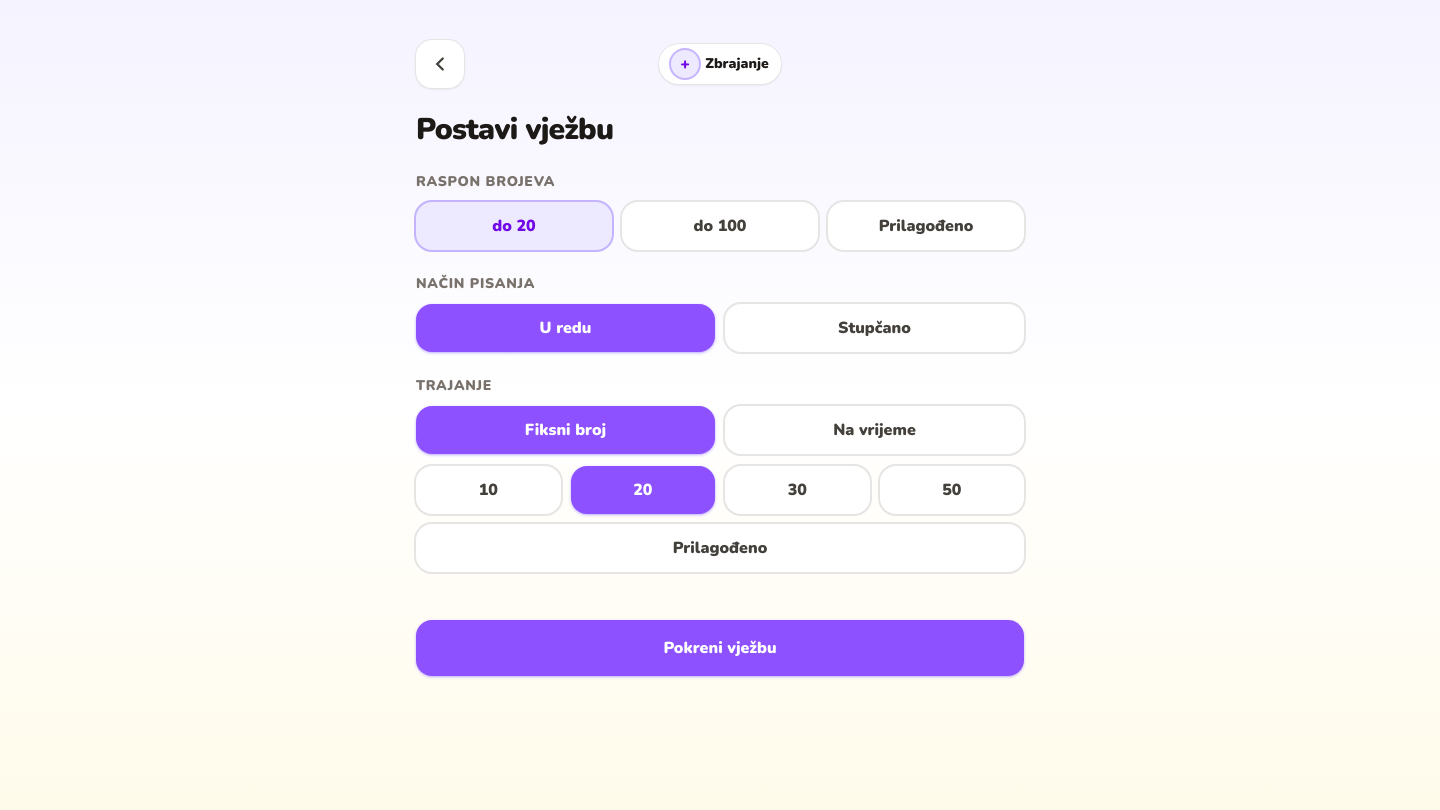
Setup — custom problem count › picking a preset after typing a custom count closes the field
Click the button "Prilagođeno" below "Trajanje". click: (720, 548)
box: [416, 524, 1024, 572]
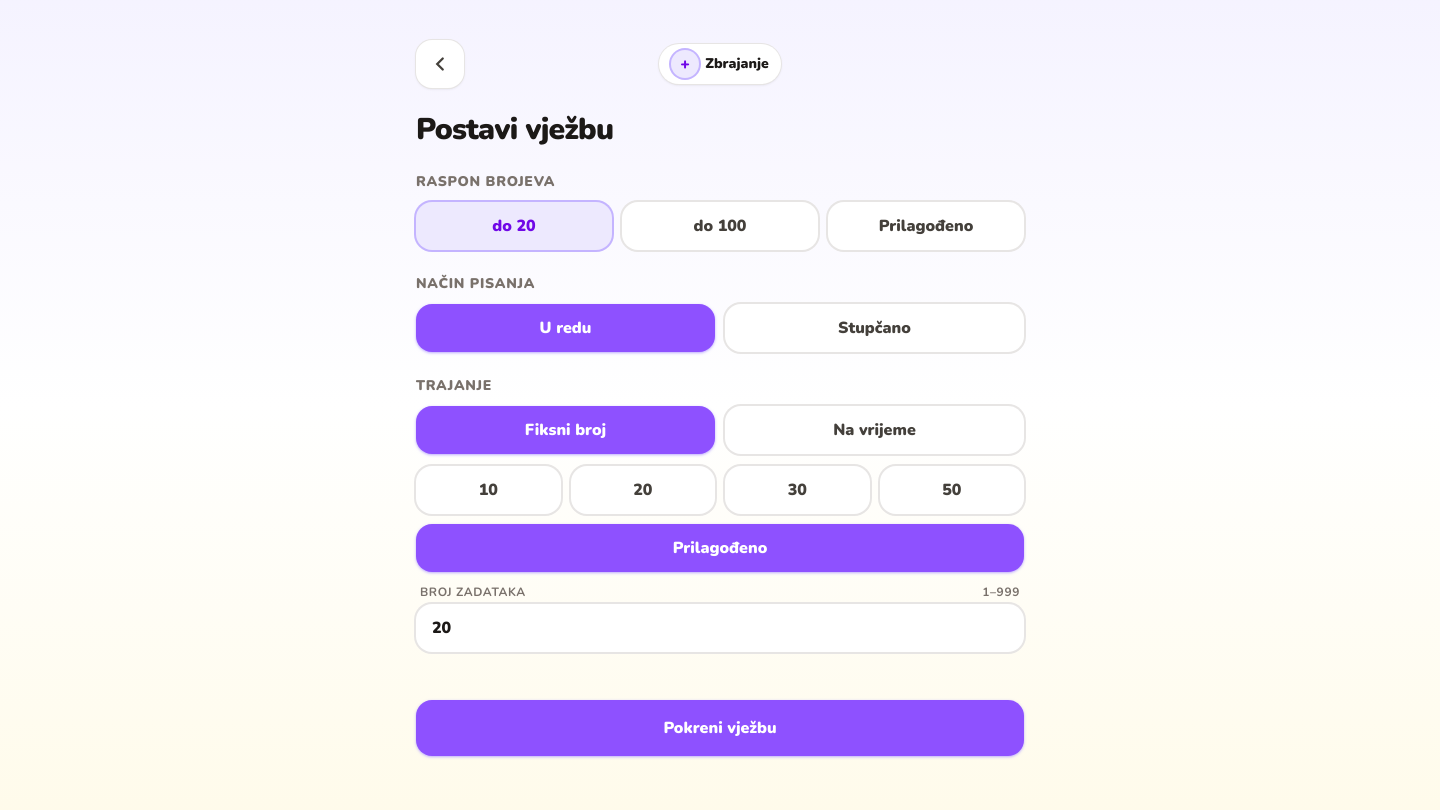
Replace the text in the number field labelled "Broj zadataka" with "100". click: (720, 628)
box: [416, 604, 1024, 652]
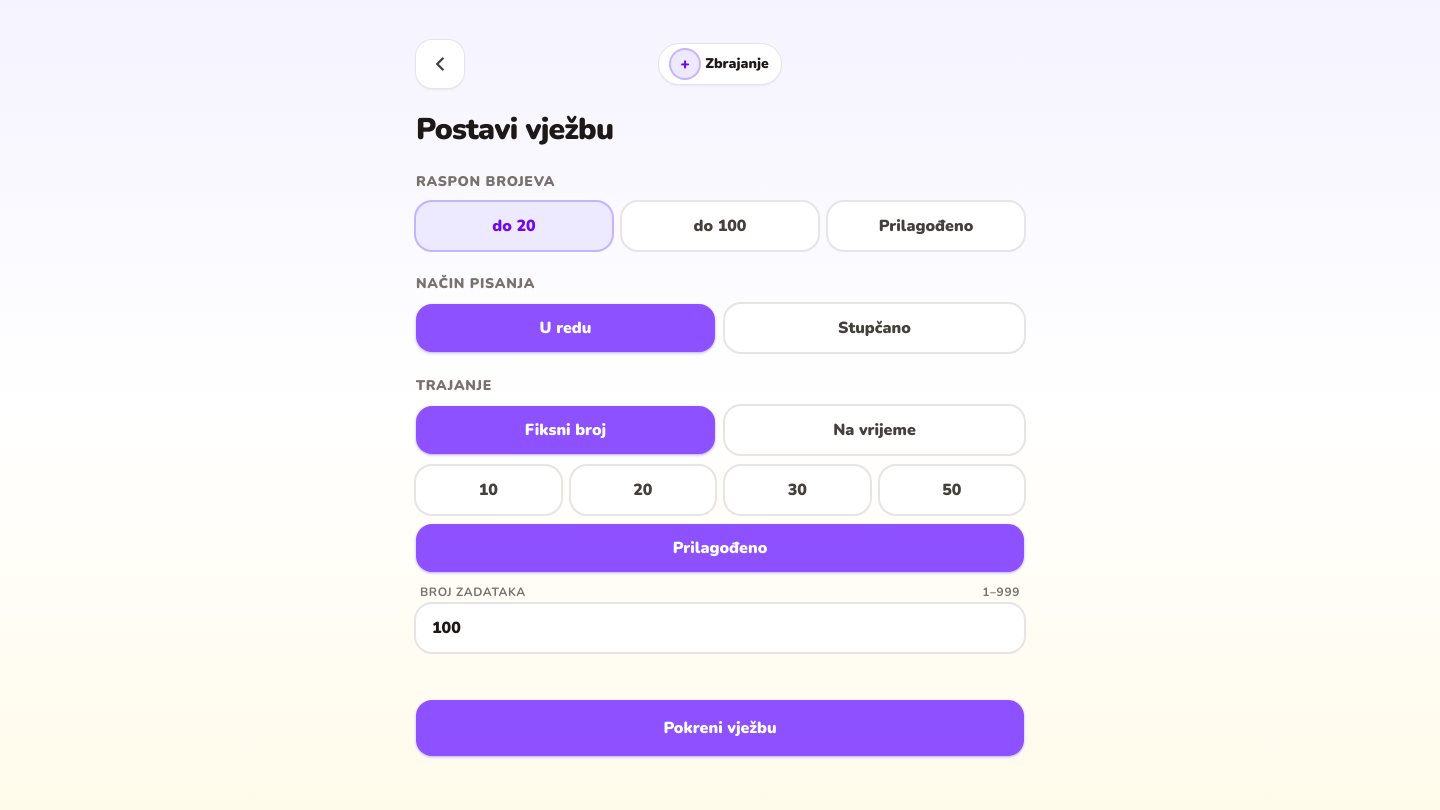
Click the button "50". click: (952, 490)
box: [880, 466, 1024, 514]
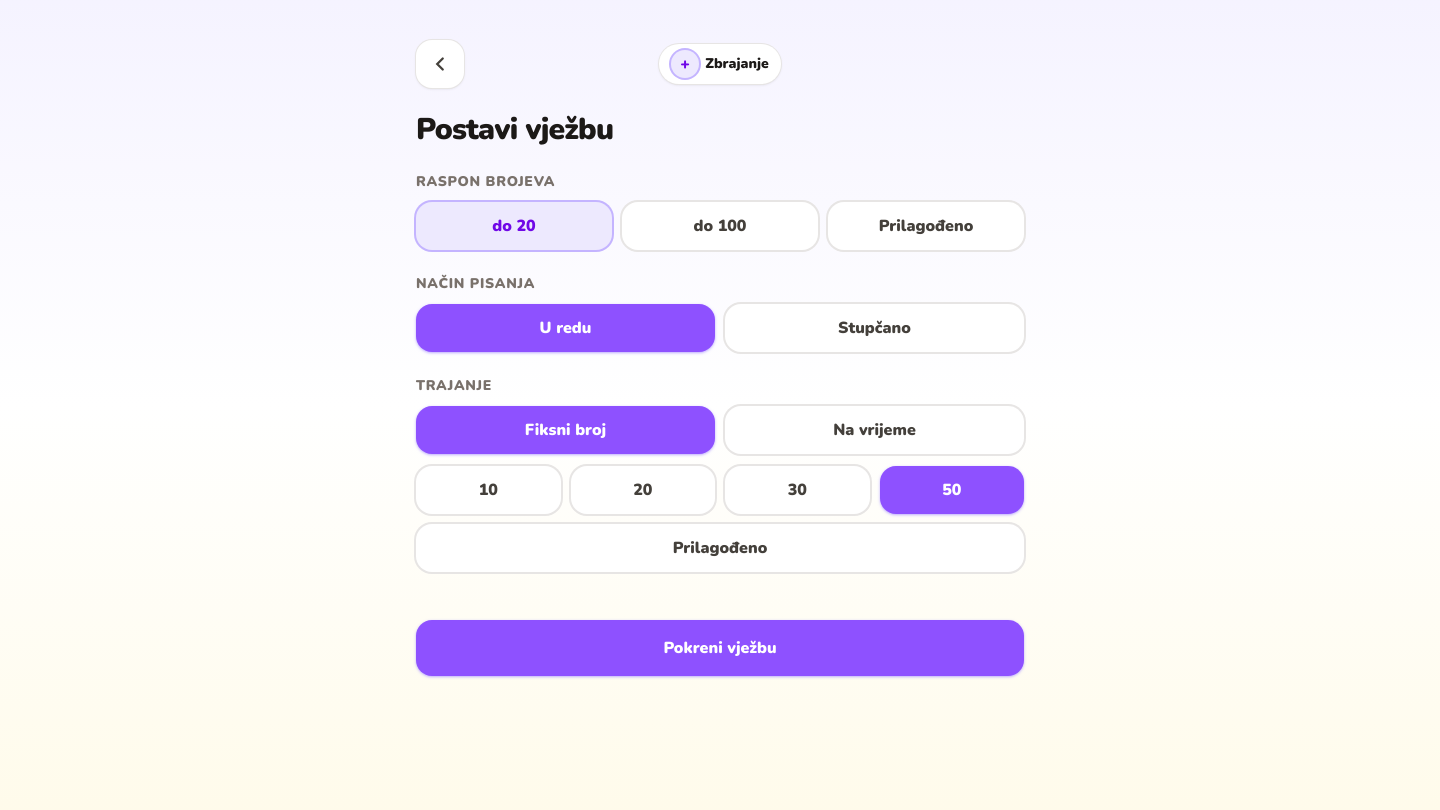
Check: the number field labelled "Broj zadataka" is gone
